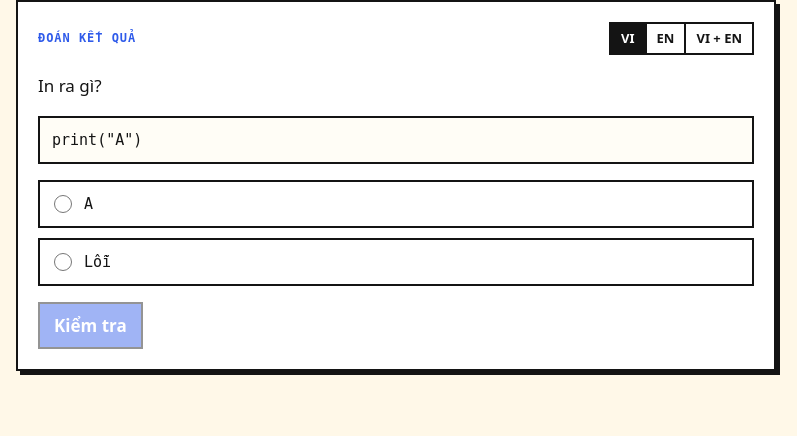
Test case: QuestionCard › switches the question language
Click the button "EN". click: point(665, 38)
box: [645,24,684,53]
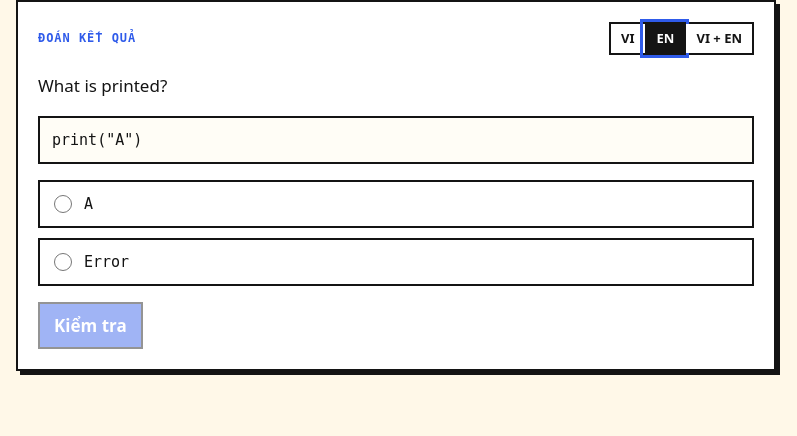
Expected: the radio button labelled "Error" is shown, [54,253,72,271]
Result: the text "What is printed?" is shown at [38,74,167,97]
Click the button "VI + EN". click: point(718, 38)
box: [684,24,752,53]
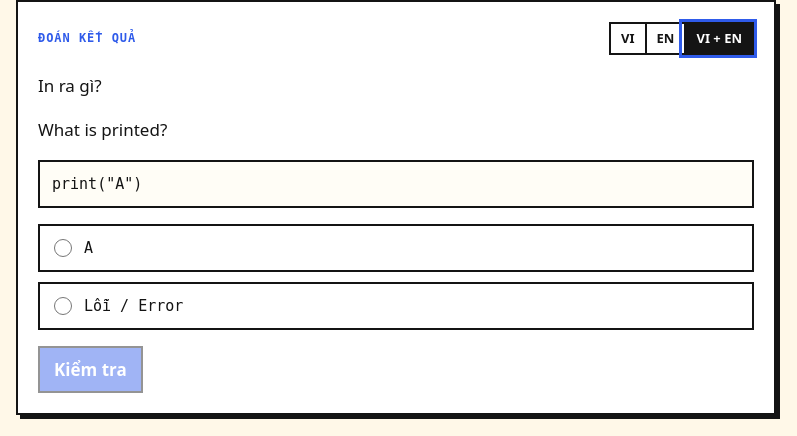
Expected: the radio button labelled "Lỗi / Error" is shown, [54,297,72,315]
Result: the text "What is printed?" is shown at [38,118,167,141]
Result: the text "In ra gì?" is shown at [38,74,102,97]
